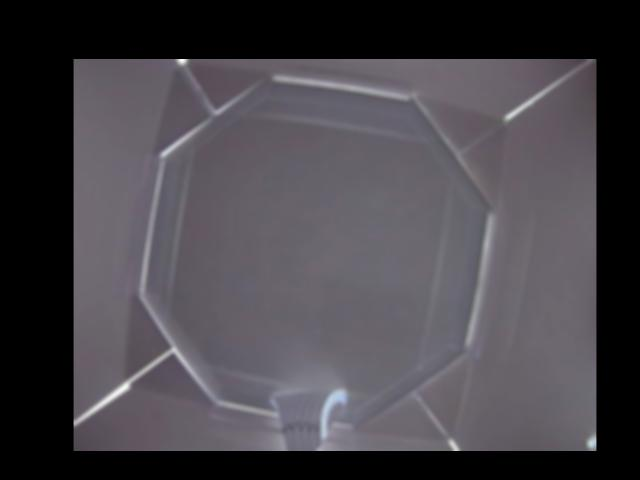China: (263, 386, 346, 451)
